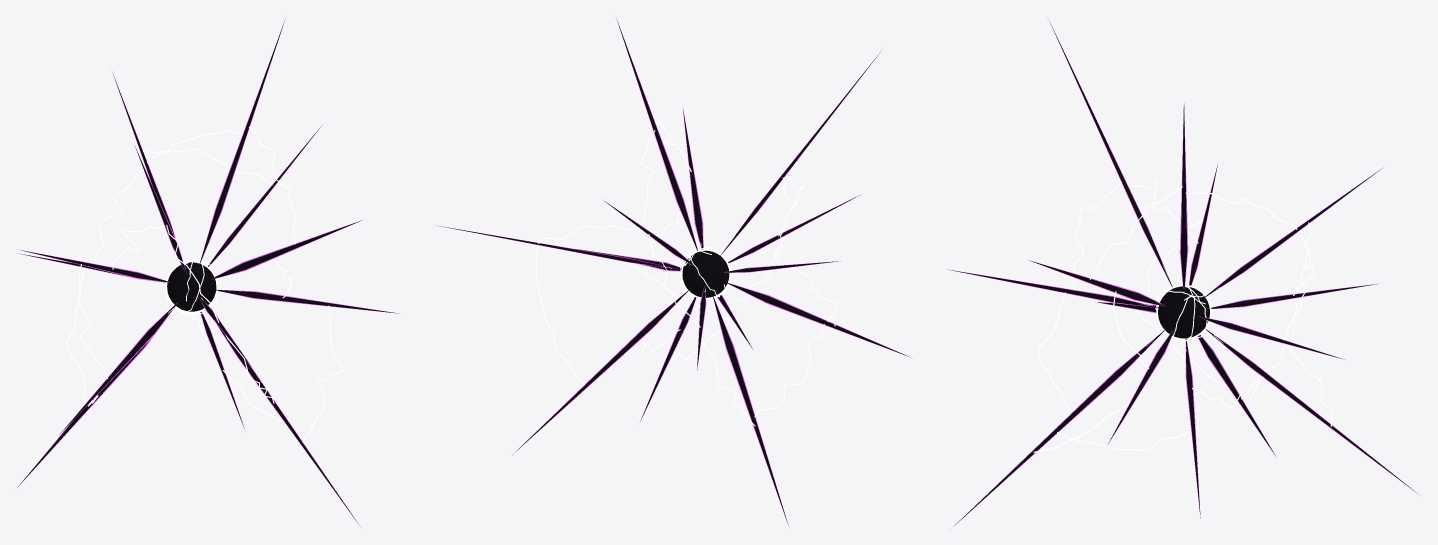
File: void_bomb_pulse_detonation.glb
3 views of the same model, side by side, from view 1: azimuth 30°, elevation 25°; view 2: azimuth 150°, elevation 25°; view 3: azimuth 270°, elevation 25° (orthographic). The views are drawn at different scales.
Visible parts, largest first — view 1: VoidShard (×8), BlackCore, VioletEdge; view 2: VoidShard (×7), BlackCore; view 3: VoidShard (×10), BlackCore.
Part boxes in pixels (<box>): VoidShard (×8): <box>17,21,398,522</box>; BlackCore: <box>167,262,216,311</box>; VioletEdge: <box>200,30,281,259</box>; VoidShard (×7): <box>439,20,910,525</box>; BlackCore: <box>682,250,729,297</box>; VoidShard (×10): <box>948,21,1417,525</box>; BlackCore: <box>1158,286,1209,338</box>.
Bounding box in the file's own units: 3.44 × 3.85 × 3.49.
